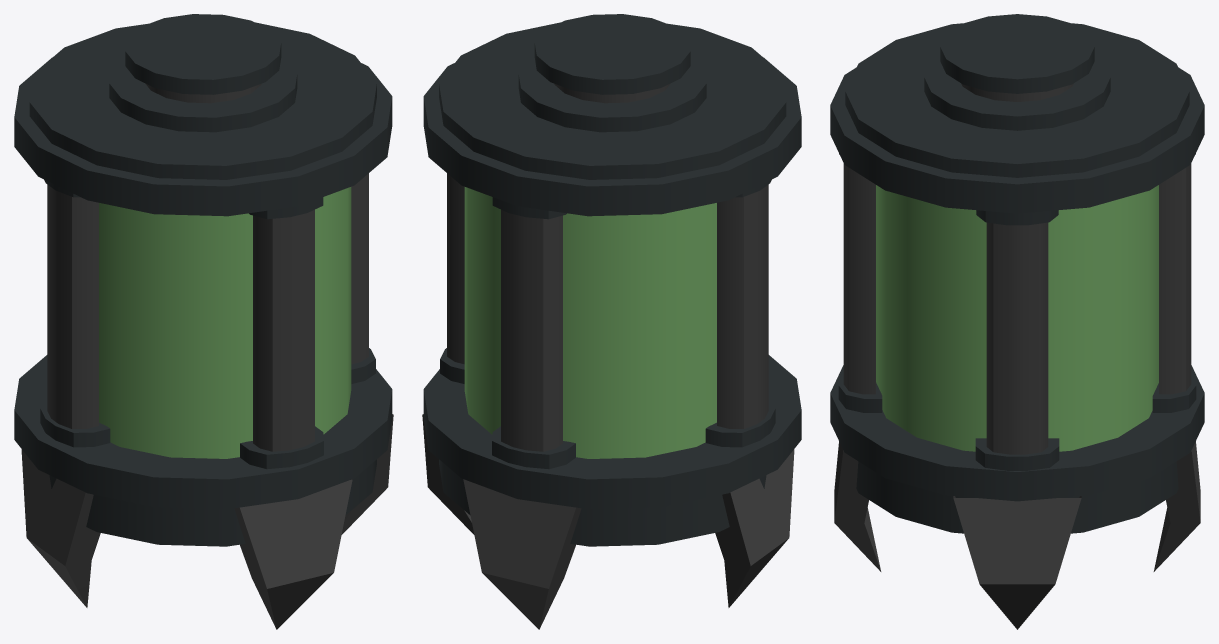
The model's file is jar_test.fbx.
3 views of the same model, side by side, from view 1: azimuth 30°, elevation 25°; view 2: azimuth 150°, elevation 25°; view 3: azimuth 270°, elevation 25° (orthographic).
Parts seen in each view (by area): view 1: polySurface2, jarbake:Glass2jar_low; view 2: polySurface2, jarbake:Glass2jar_low; view 3: polySurface2, jarbake:Glass2jar_low.
Part boxes in pixels (bbox=[...]): polySurface2: bbox=[14, 14, 393, 629]; jarbake:Glass2jar_low: bbox=[99, 187, 351, 458]; polySurface2: bbox=[422, 14, 801, 629]; jarbake:Glass2jar_low: bbox=[464, 187, 716, 458]; polySurface2: bbox=[830, 14, 1204, 629]; jarbake:Glass2jar_low: bbox=[876, 185, 1158, 451].
Size of the model in its own units: 1.53 by 2.36 by 1.53.
